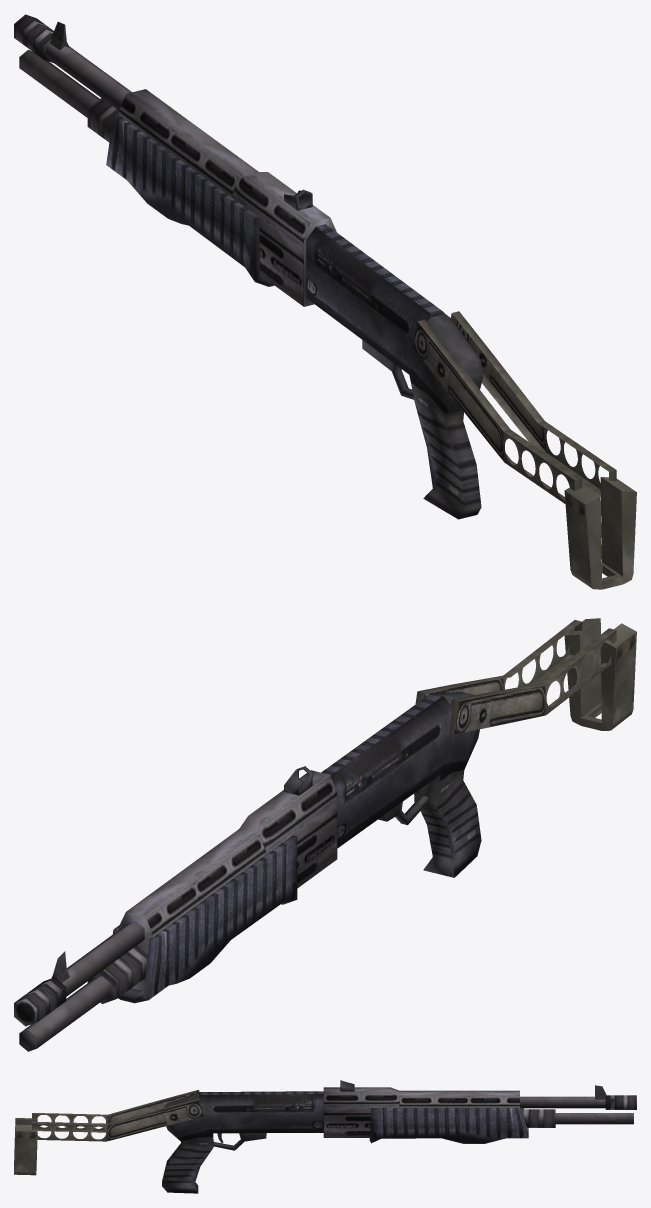
File: Spas_fbx.fbx
The picture shows the model from 3 angles, top to bottom: view 1: azimuth 30°, elevation 25°; view 2: azimuth 150°, elevation 25°; view 3: azimuth 270°, elevation 25°; orthographic projection. The views are drawn at different scales.
Visible parts, largest first — view 1: Shotgun, HandGuard, Stock, Pump, Cube, Barrel.001, Ammo Tube; view 2: Shotgun, HandGuard, Pump, Stock, Cube, Ammo Tube, Barrel.001; view 3: Shotgun, HandGuard, Pump, Stock, Barrel.001, Ammo Tube, Cube, Trigger Guard.
Part boxes in pixels (x1,y1,x2,y2): Shotgun: (306,224,483,519); HandGuard: (119,89,336,306); Stock: (412,311,616,503); Pump: (106,114,274,286); Cube: (564,477,636,589); Barrel.001: (14,14,131,110); Ammo Tube: (19,49,118,142); Shotgun: (321,691,481,877); HandGuard: (119,770,337,990); Pump: (112,835,297,1003); Stock: (415,620,616,734); Cube: (564,618,636,730); Ammo Tube: (19,945,147,1051); Barrel.001: (14,921,144,1026); Shotgun: (162,1091,323,1193); HandGuard: (323,1087,519,1137); Pump: (369,1107,528,1143); Stock: (32,1089,203,1141); Barrel.001: (520,1095,636,1109); Ammo Tube: (522,1109,633,1127); Cube: (14,1118,37,1175); Trigger Guard: (213,1133,266,1150).
Size of the model in its own units: 24.89 by 95.65 by 492.
Materials: 1 (1 with a texture image).
